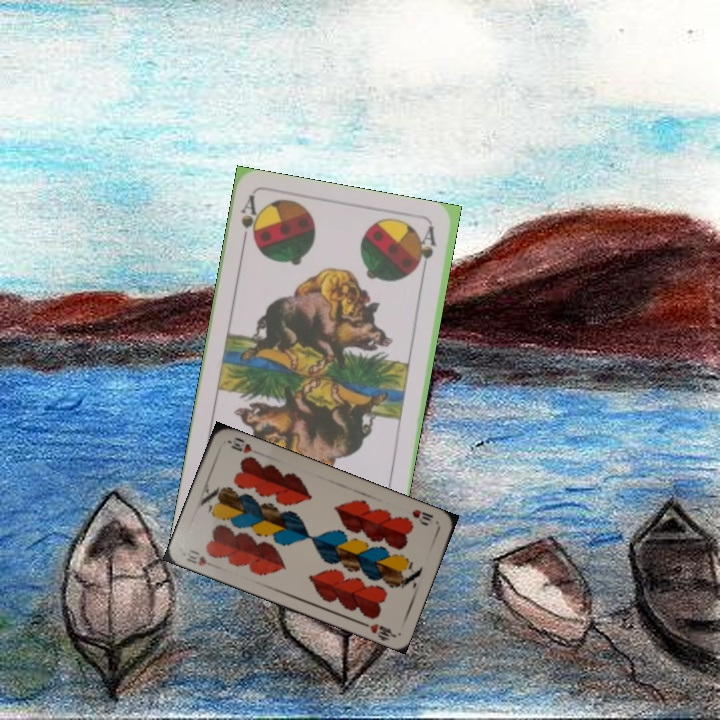H10: (407, 505, 436, 528), (183, 545, 209, 568)
SA: (237, 193, 264, 252)
